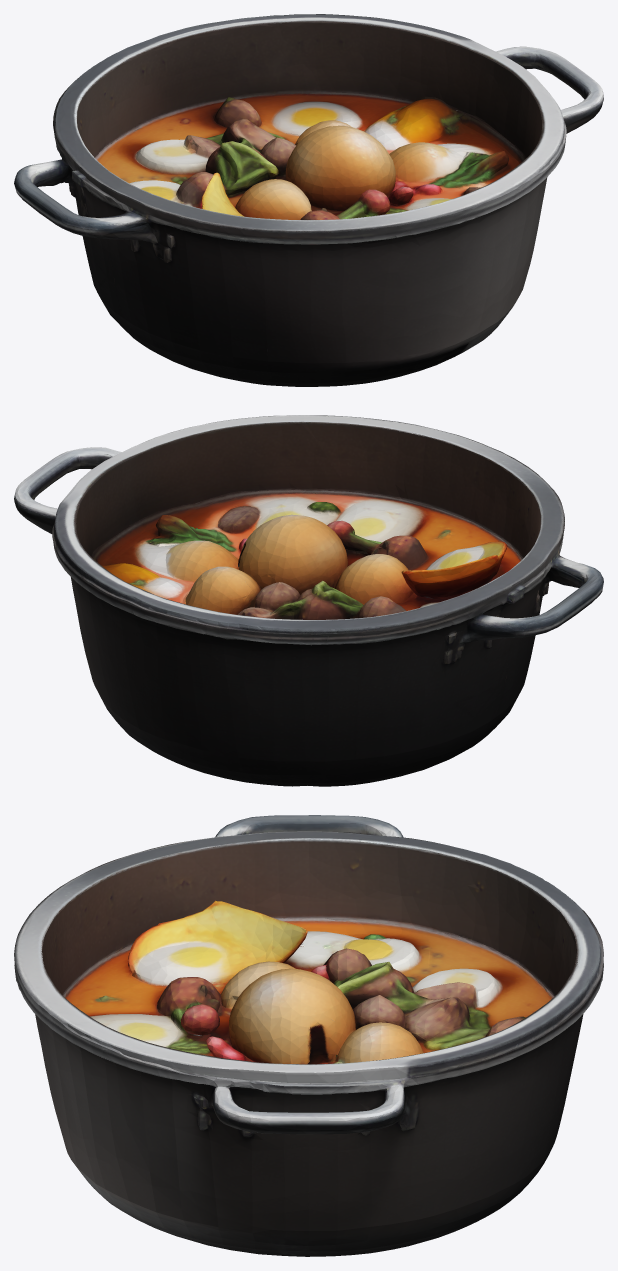
File: hotpot_trellis.glb
3 views of the same model, one above another, from view 1: azimuth 30°, elevation 25°; view 2: azimuth 150°, elevation 25°; view 3: azimuth 270°, elevation 25° (orthographic). The views are drawn at different scales.
Size of the model in its own units: 1 by 0.3396 by 0.8216.
Materials: 1 (1 with a texture image).
